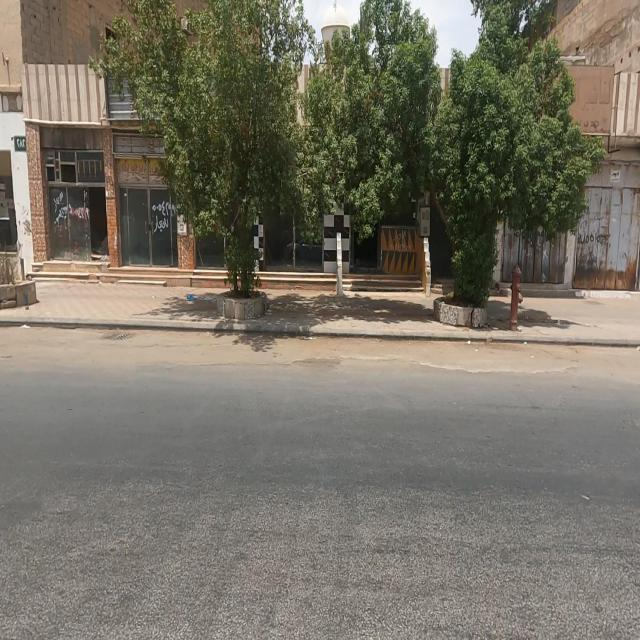debris: (154, 262, 227, 334)
